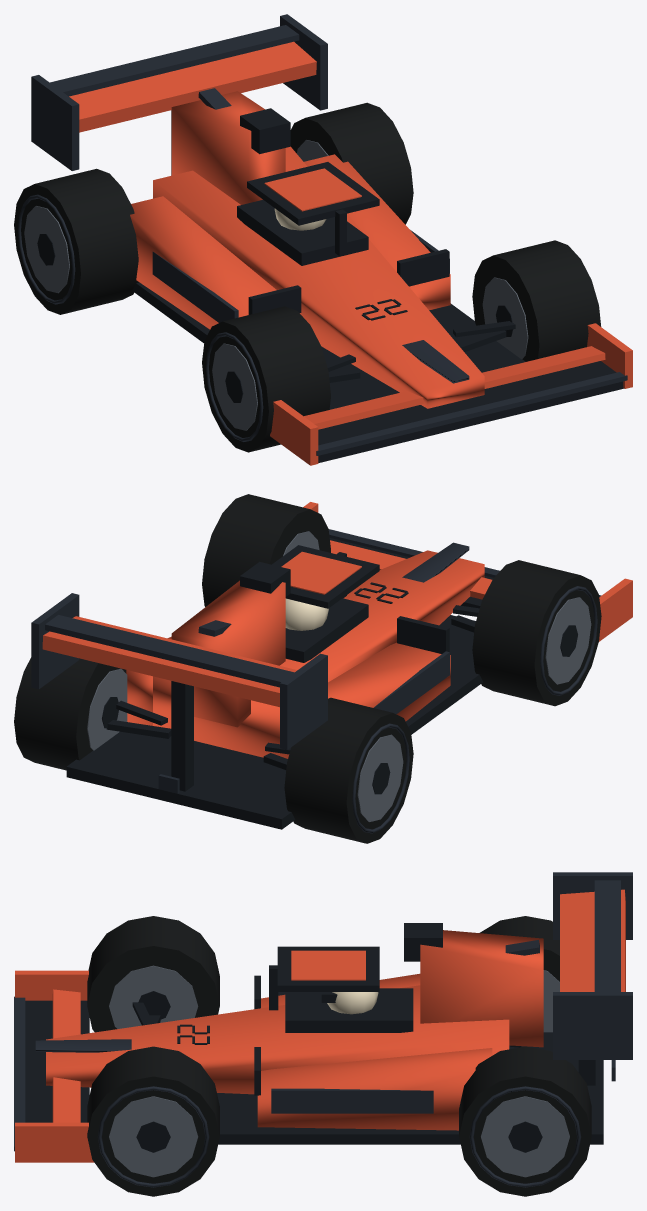
The model's file is ember-22.glb.
3 renders of one model, top to bottom at view 1: azimuth 30°, elevation 25°; view 2: azimuth 150°, elevation 25°; view 3: azimuth 270°, elevation 25°, orthographic.
Visible parts, largest first — view 1: formula-22, wheel (×4); view 2: formula-22, wheel (×4); view 3: formula-22, wheel (×4).
Part boxes in pixels (<box>): formula-22: <box>31,14,632,465</box>; wheel (×4): <box>14,102,601,452</box>; formula-22: <box>31,502,632,829</box>; wheel (×4): <box>14,494,601,843</box>; formula-22: <box>14,872,632,1162</box>; wheel (×4): <box>87,916,591,1196</box>.
Bounding box in the file's own units: 3.37 × 1.79 × 5.41.
